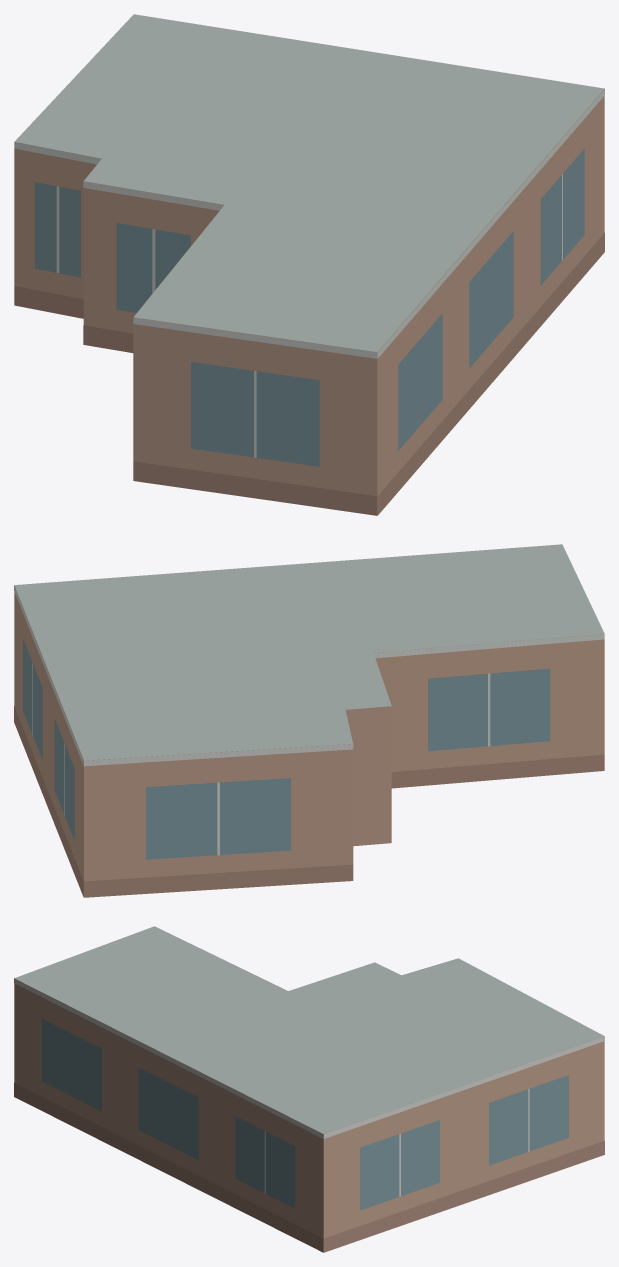
Rendered from survey-upis-32960737.glb.
3 views of the same model, one above another, from view 1: azimuth 30°, elevation 25°; view 2: azimuth 150°, elevation 25°; view 3: azimuth 270°, elevation 25° (orthographic). The views are drawn at different scales.
Visible parts, largest first — view 1: survey-upis-32960737.tmp; view 2: survey-upis-32960737.tmp; view 3: survey-upis-32960737.tmp.
Boxes of the visible parts, box(x1,y1,x2,y2) form: survey-upis-32960737.tmp: box(14, 14, 604, 515); survey-upis-32960737.tmp: box(14, 544, 604, 897); survey-upis-32960737.tmp: box(14, 926, 604, 1252).
Bounding box in the file's own units: 11.49 × 3.05 × 13.78.
